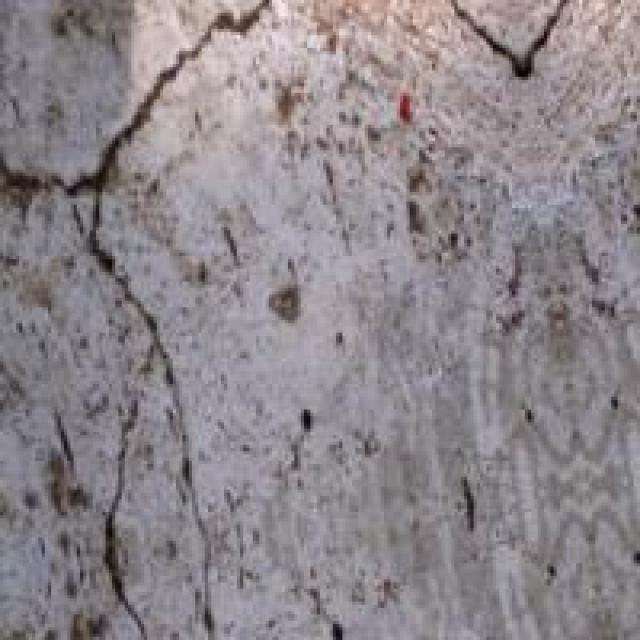crack: (0, 0, 301, 637)
